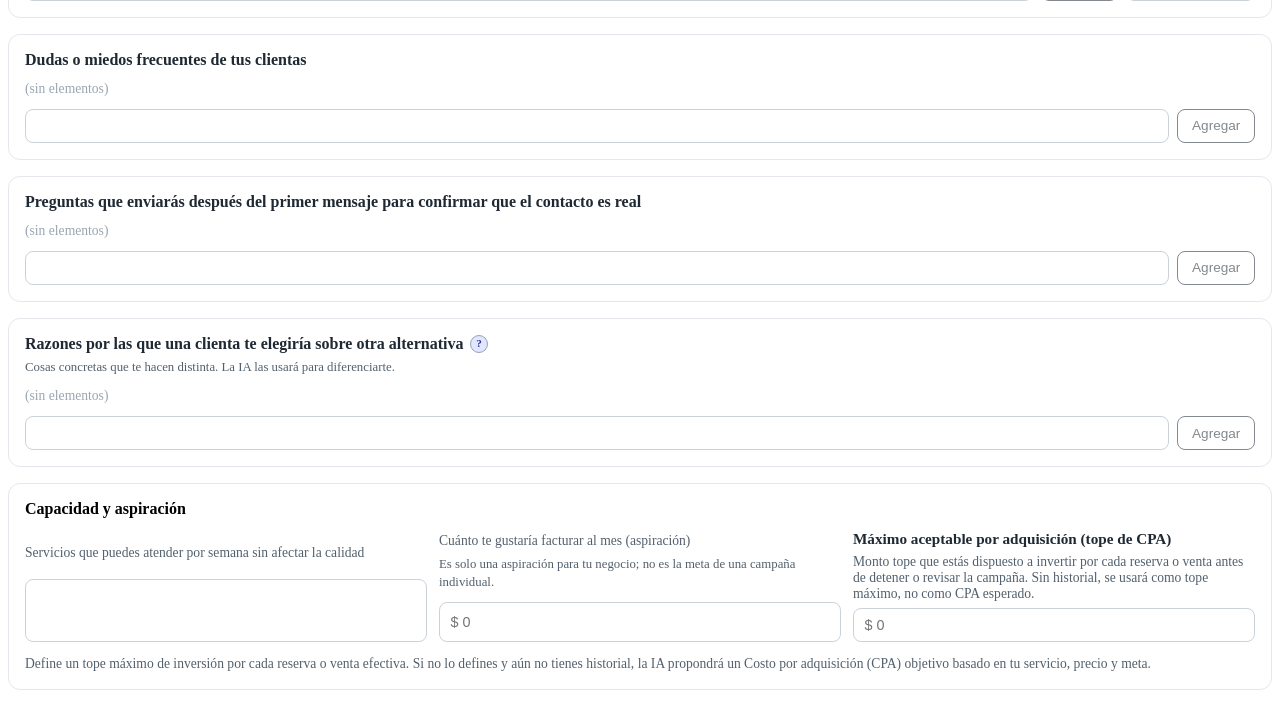
Scenario: BusinessProfileForm › cierra el popover al pulsar Escape y devuelve el foco al botón "?"
(page scrolled)
Click the button named "más información sobre diferenciadores" at (479, 344), box [470,335,488,353]
(page scrolled)
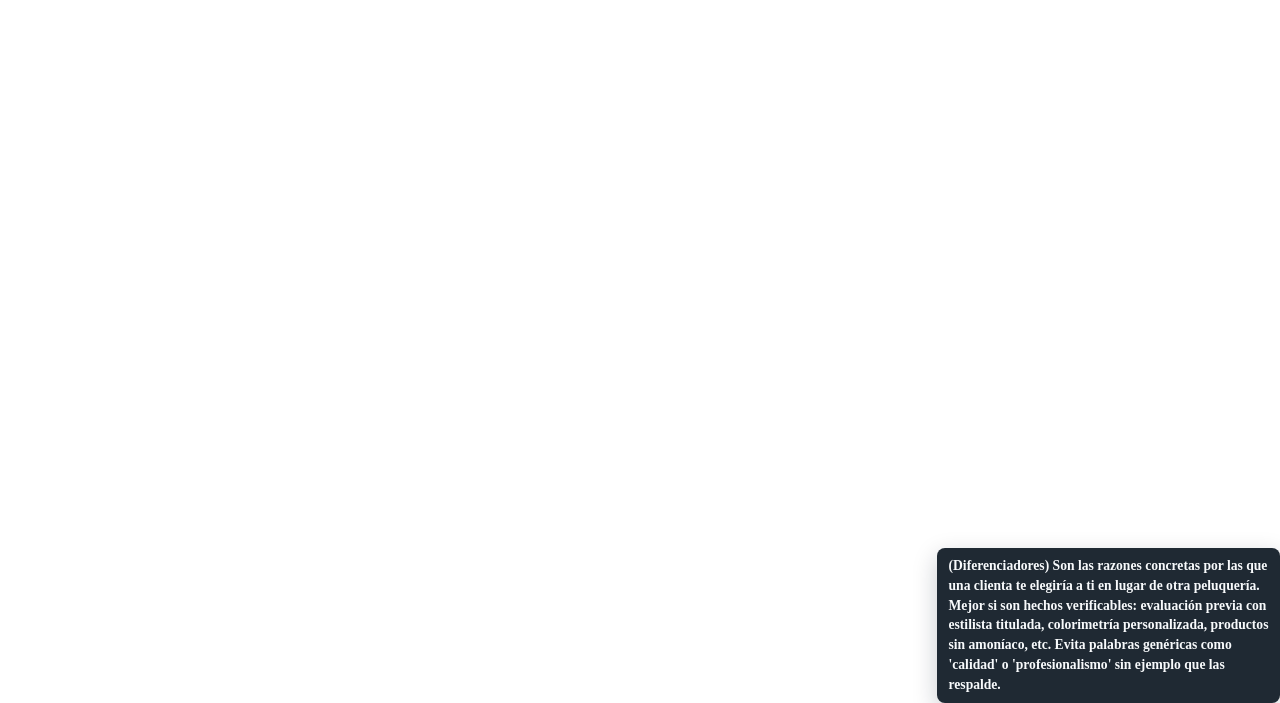
Expected: the tooltip is shown, [937,548,1279,702]
Press Escape
(page scrolled)
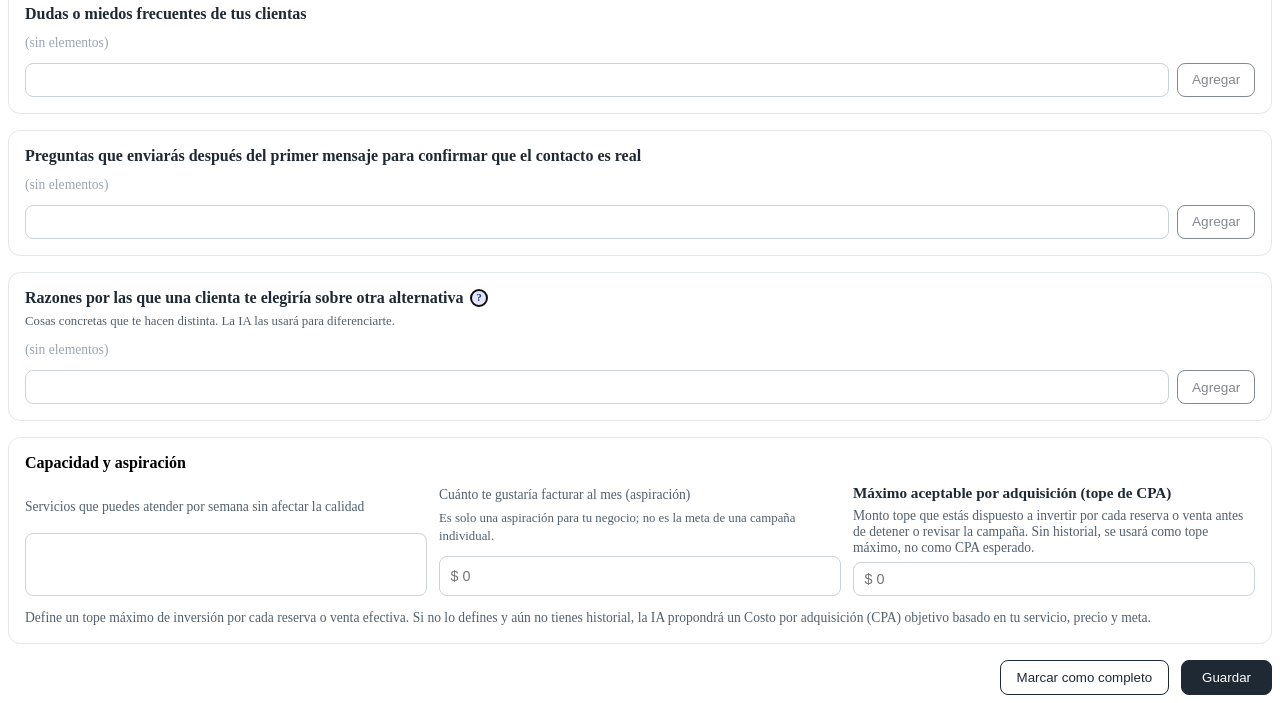
Expected: the tooltip "(Diferenciadores) Son las razones concretas por las que una clienta te elegiría" is gone
